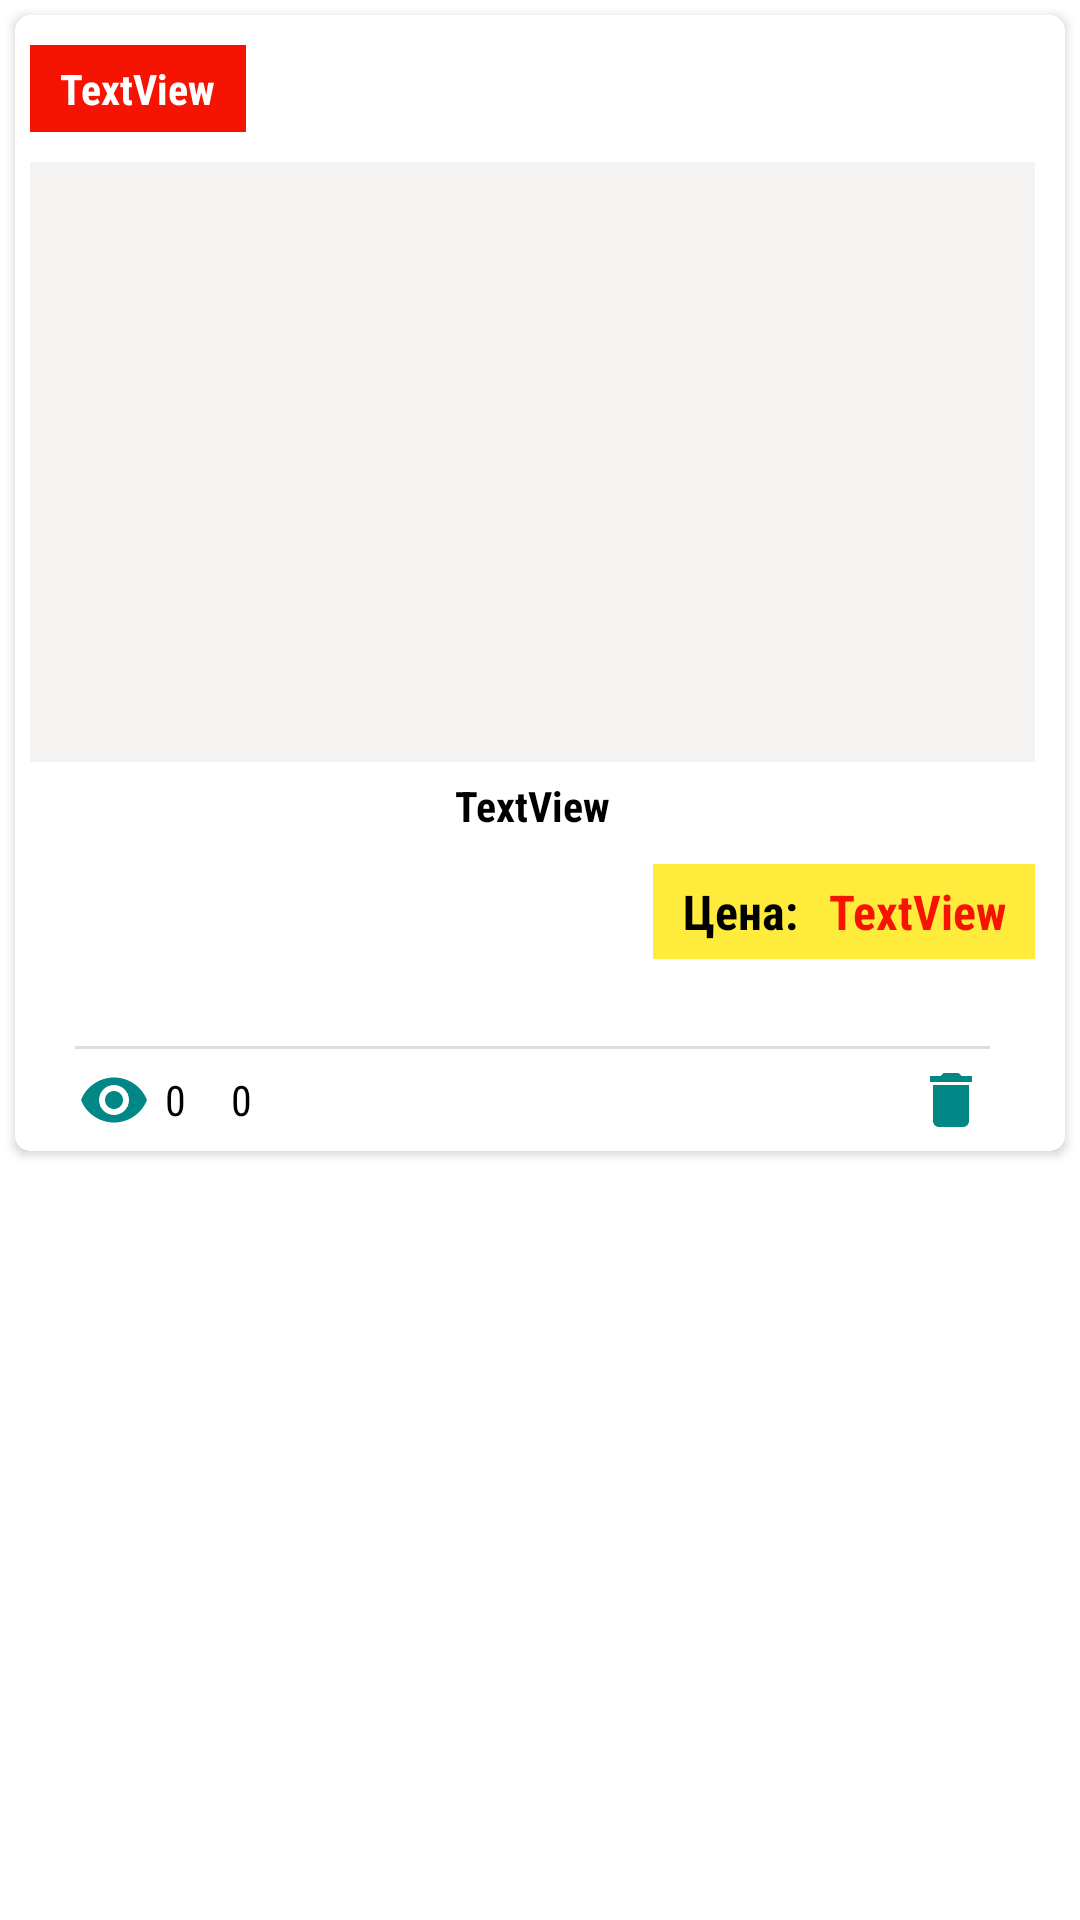

Locate icon controls on the screen. Image size 1080w x 1920h, boxes as (x1, y1, x2, y2).
delete: (930, 1073, 972, 1127)
eye: (81, 1077, 147, 1123)
